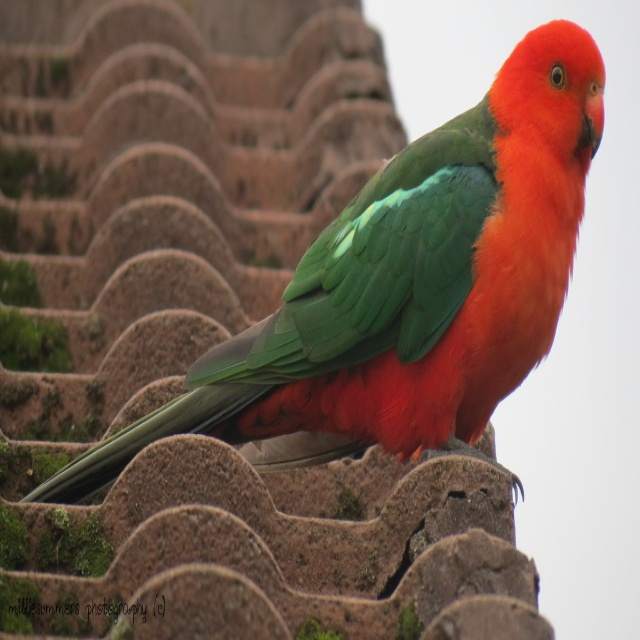Parrot: (19, 19, 606, 506)
